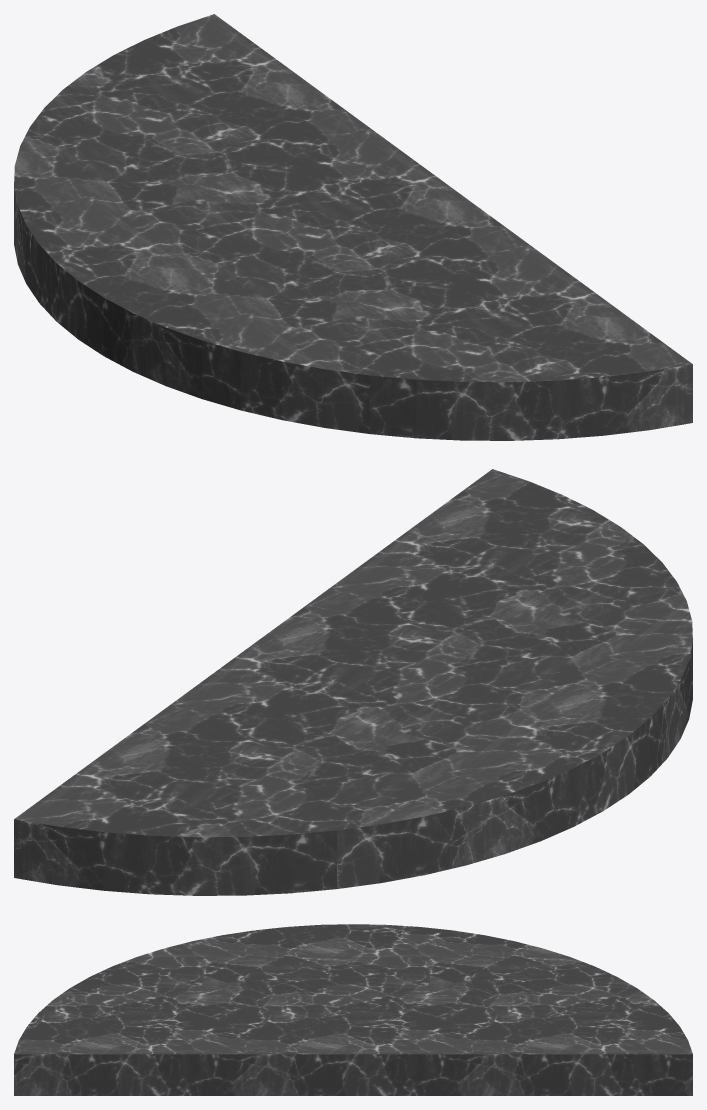
The model's file is Stair walkway.glb.
3 views of the same model, one above another, from view 1: azimuth 30°, elevation 25°; view 2: azimuth 150°, elevation 25°; view 3: azimuth 270°, elevation 25° (orthographic). The views are drawn at different scales.
Visible parts, largest first — view 1: Stairs top; view 2: Stairs top; view 3: Stairs top.
Part boxes in pixels (x1,y1,x2,y2): Stairs top: [14, 14, 692, 440]; Stairs top: [14, 469, 692, 895]; Stairs top: [14, 924, 692, 1095].
Bounding box in the file's own units: 5.98 × 0.8931 × 13.2.
Materials: 1 (1 with a texture image).
